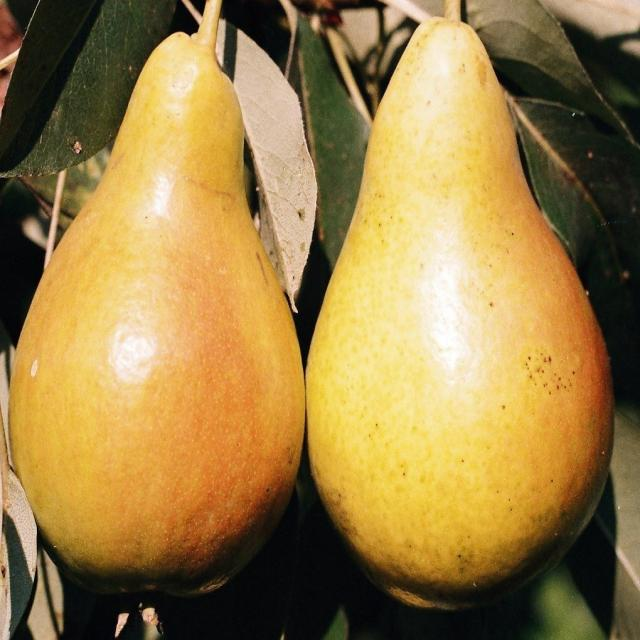pear: (306, 0, 618, 616), (2, 0, 306, 599)
